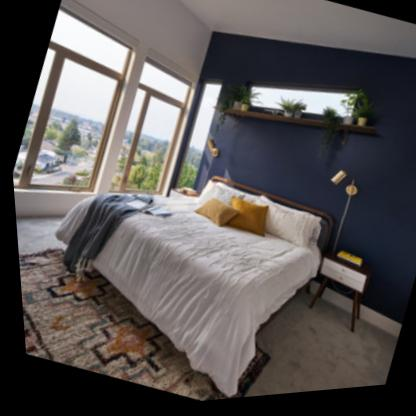Bed: (50, 180, 330, 402)
Carpet: (15, 250, 225, 404)
Window: (10, 8, 131, 198)
